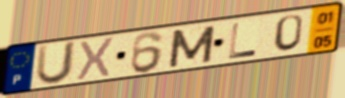0: (271, 13, 305, 54)
6: (129, 30, 165, 76)
L: (227, 21, 260, 61)
M: (166, 24, 218, 70)
U: (33, 39, 80, 87)
X: (74, 35, 117, 82)
